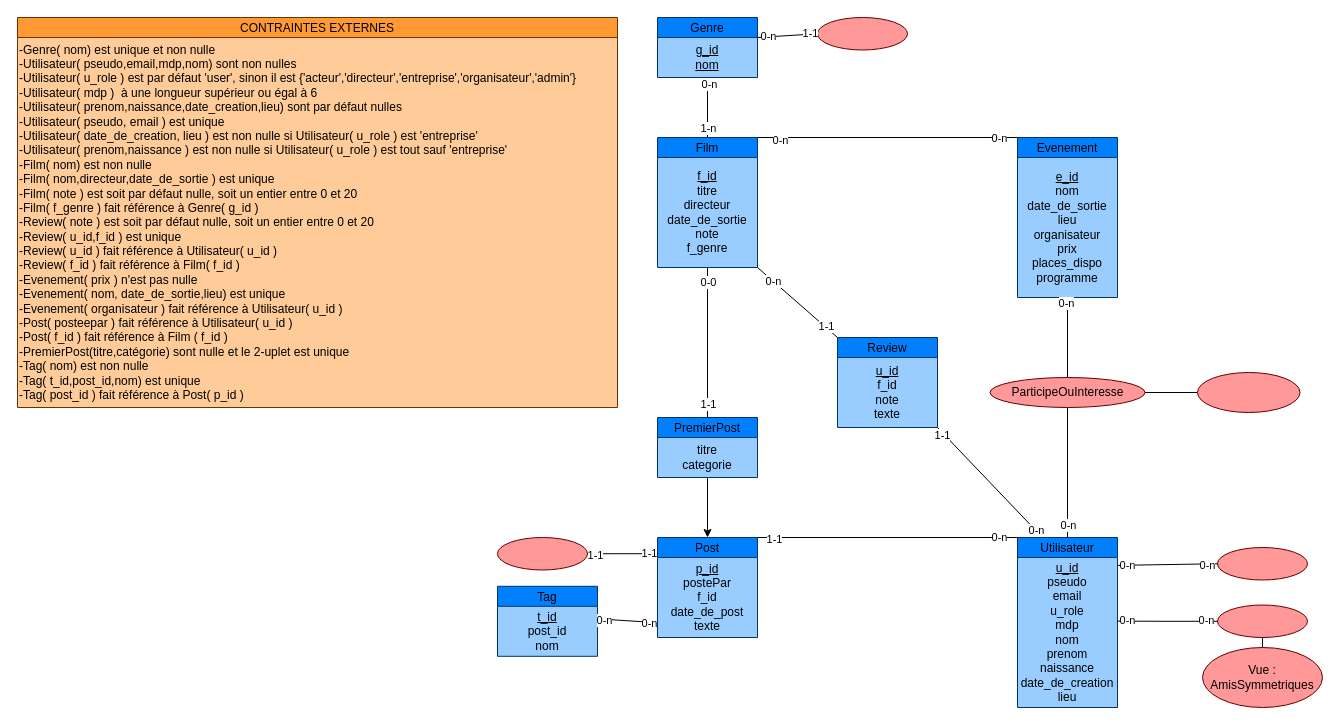
Some shapes in this 1340 by 725 pixel diagram are drawn without their labels. The centre of each missing label's shape, as x and y in pixels:
Amis: the point at 1262,621
RepondsA: the point at 542,553
sousGenreDe: the point at 862,33
SuivisPar: the point at 1262,563
yparticipe syinteresse: the point at 1248,392
